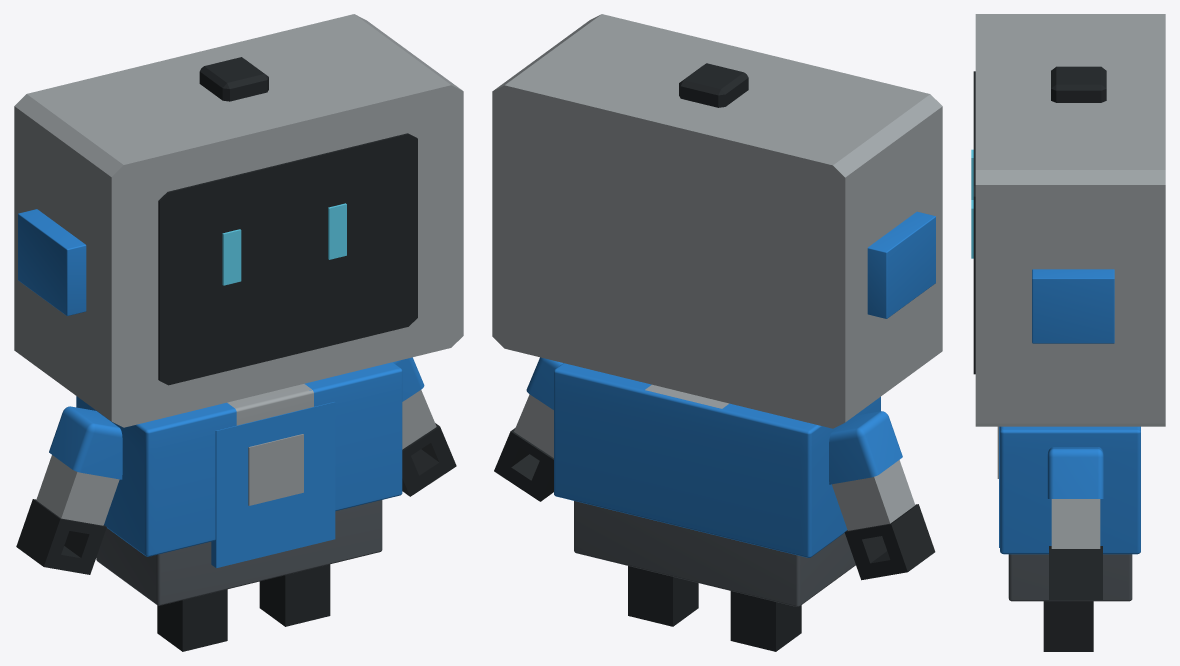
File: roboott.fbx
The picture shows the model from 3 angles, left to right: view 1: azimuth 30°, elevation 25°; view 2: azimuth 150°, elevation 25°; view 3: azimuth 270°, elevation 25°; orthographic projection. The views are drawn at different scales.
Parts seen in each view (by area): view 1: Cube, Cube.001, Cube.007, Cube.009, Cube.008, Cube.015, Cube.003, Cube.014, Cube.013, Cube.012, Cube.011, Cube.010 (+3 smaller); view 2: Cube, Cube.007, Cube.008, Cube.015, Cube.003, Cube.014, Cube.013, Cube.011, Cube.012, Cube.016; view 3: Cube, Cube.007, Cube.004, Cube.008, Cube.013, Cube.015, Cube.012, Cube.014, Cube.016, Cube.001.
Boxes of the visible parts, x1,y1,x2,y2 form: Cube: (14,14,463,427); Cube.001: (158,133,417,385); Cube.007: (76,362,402,556); Cube.009: (211,402,335,568); Cube.008: (96,500,382,605); Cube.015: (16,423,456,574); Cube.003: (18,209,86,315); Cube.014: (36,390,436,525); Cube.013: (49,357,424,479); Cube.012: (259,564,330,626); Cube.011: (157,589,227,651); Cube.010: (248,434,303,505); Cube: (492,14,942,428); Cube.007: (554,363,880,557); Cube.008: (574,501,855,606); Cube.015: (494,428,935,580); Cube.003: (867,211,935,318); Cube.014: (514,394,915,530); Cube.013: (526,357,902,484); Cube.011: (730,591,801,651); Cube.012: (628,566,698,626); Cube.016: (679,63,748,107); Cube: (975,14,1165,426); Cube.007: (1000,426,1140,554); Cube.004: (1032,269,1114,343); Cube.008: (1008,554,1132,601); Cube.013: (1047,447,1103,498); Cube.015: (1049,546,1102,599); Cube.012: (1043,601,1093,651); Cube.014: (1051,499,1100,548); Cube.016: (1051,66,1106,102); Cube.001: (973,71,975,374).
Size of the model in its own units: 101 by 129 by 42.1.
